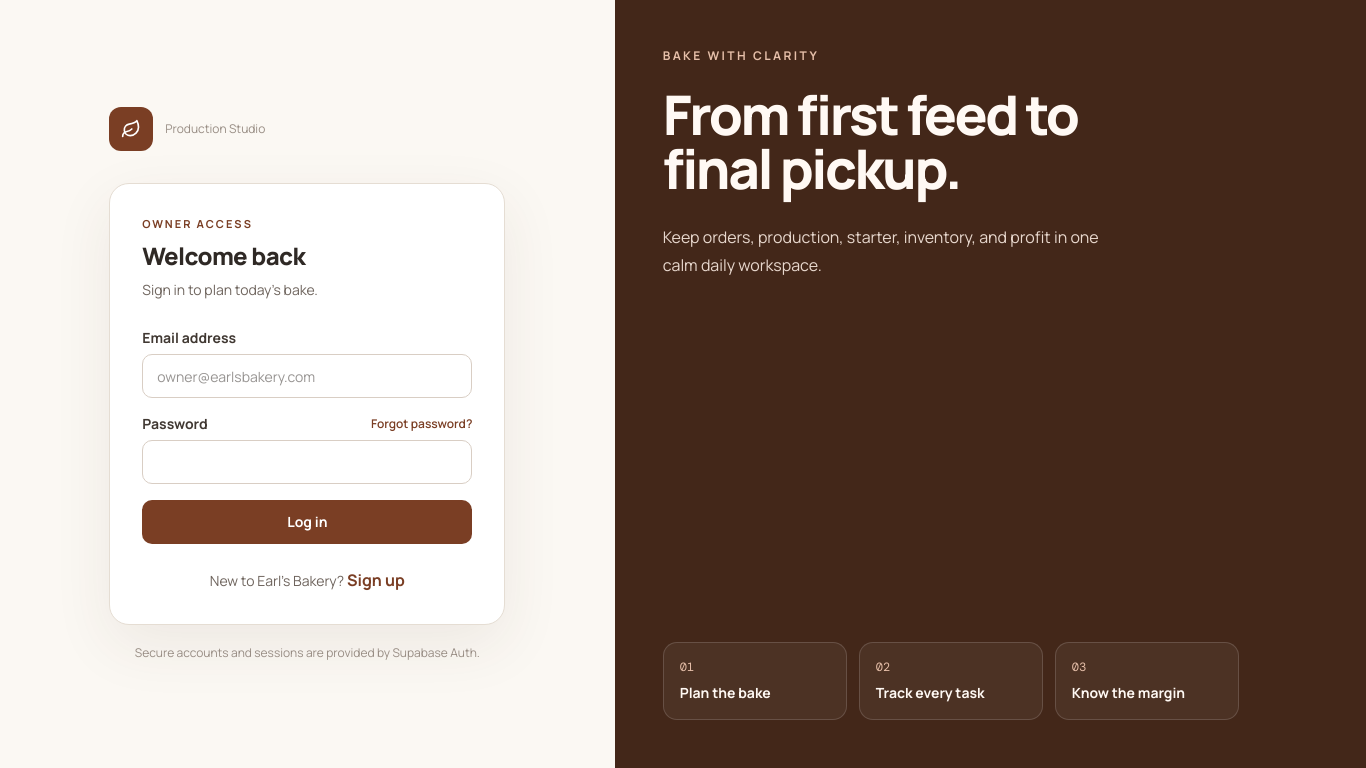
Test: Frontend authentication shell › keeps the workspace hidden and switches between login and signup
This screenshot has width=1366, height=768.
Expected: the heading "Welcome back" is shown, [142, 239, 305, 272]
Click the button "Sign up" at (376, 580), box [347, 568, 405, 592]
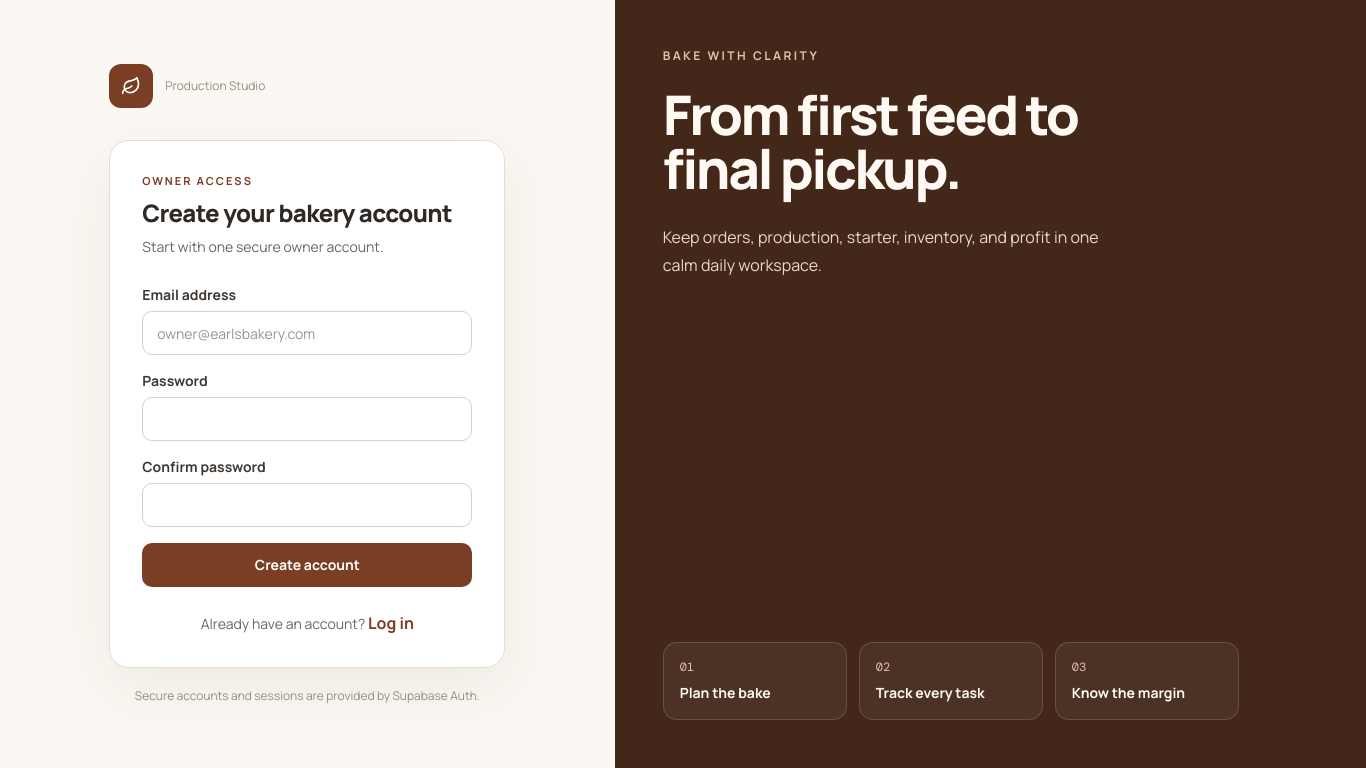
Now the heading "Create your bakery account" is shown, box [142, 197, 472, 229]
Click the button "Create account" at (307, 565), box [142, 543, 472, 587]
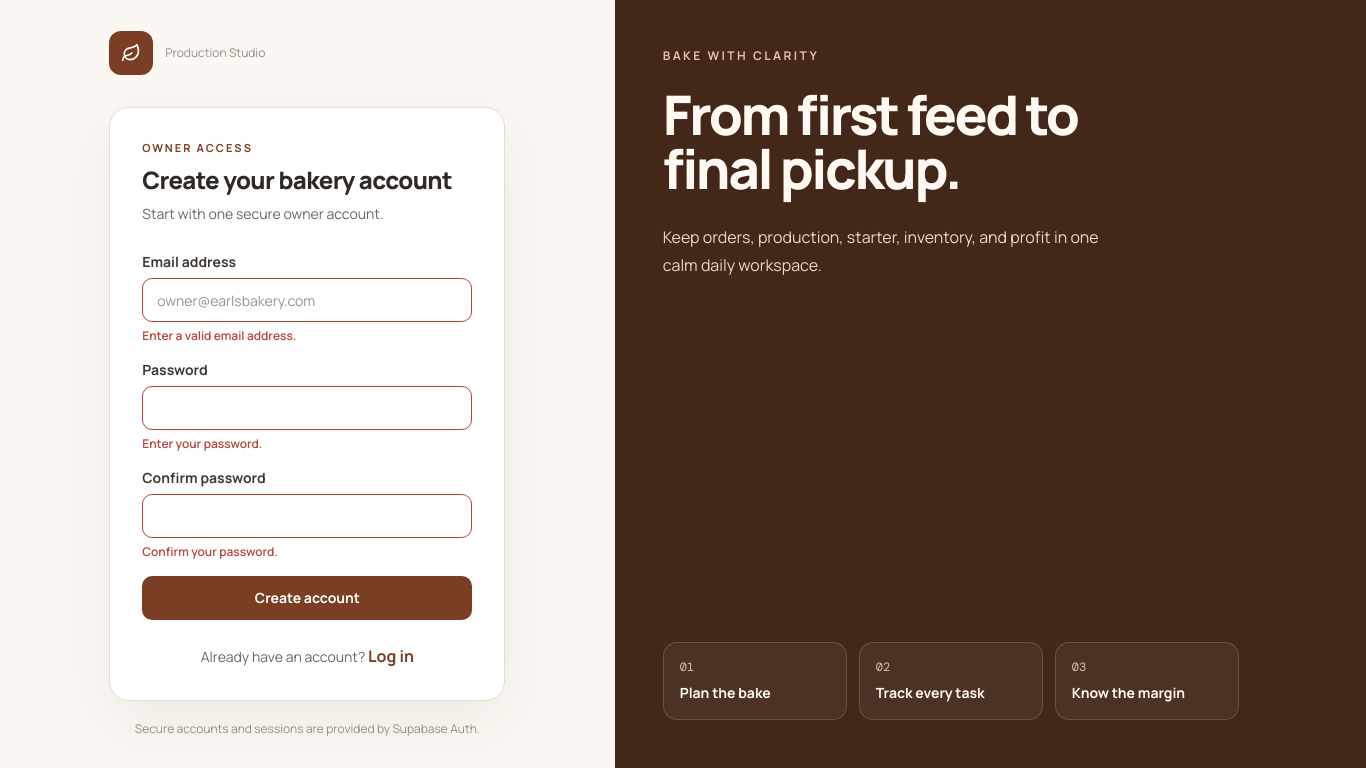
Now the text "Enter a valid email address." is shown, box [142, 327, 296, 344]
Now the text "Enter your password." is shown, box [142, 435, 262, 452]
Now the text "Confirm your password." is shown, box [142, 543, 278, 560]
Type "password" into the password field labelled "Password" at (307, 408), box [142, 386, 472, 430]
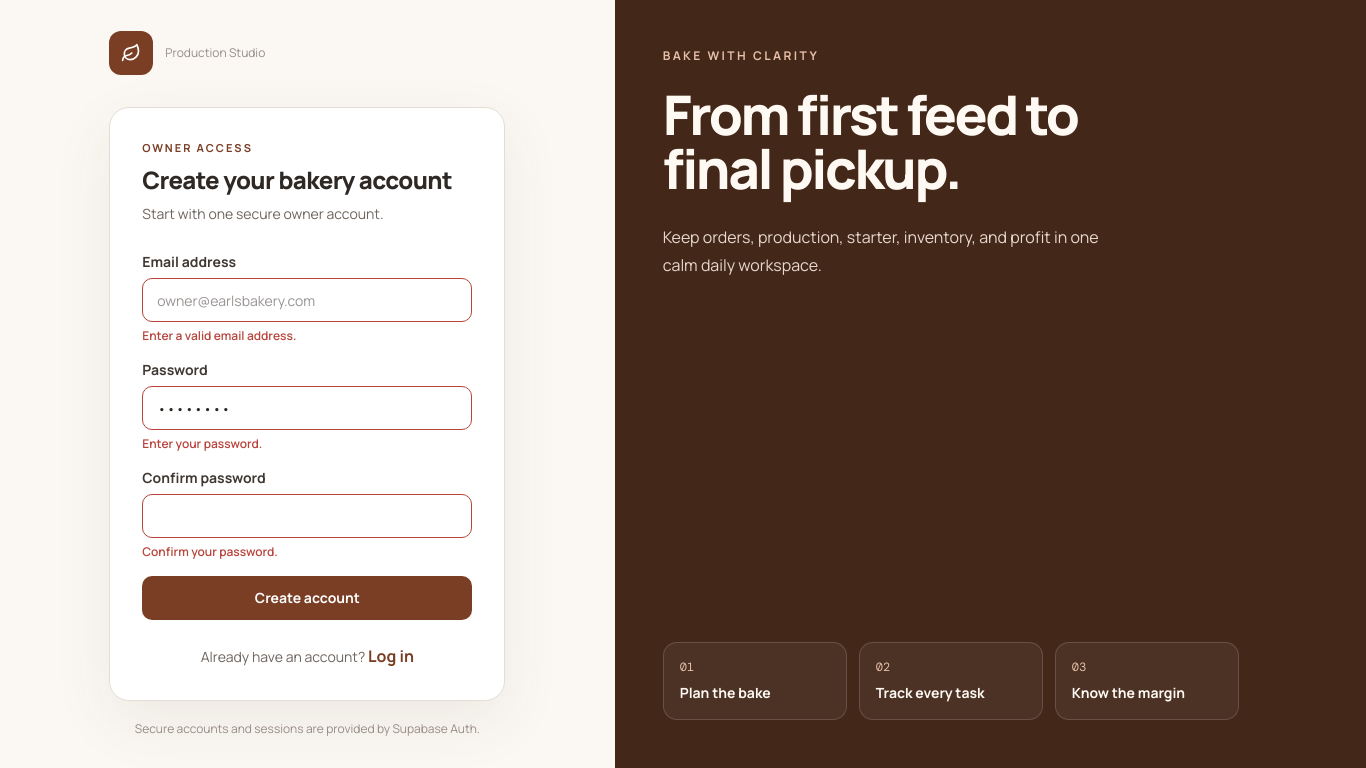
Type "different" into the password field labelled "Confirm password" at (307, 516), box [142, 494, 472, 538]
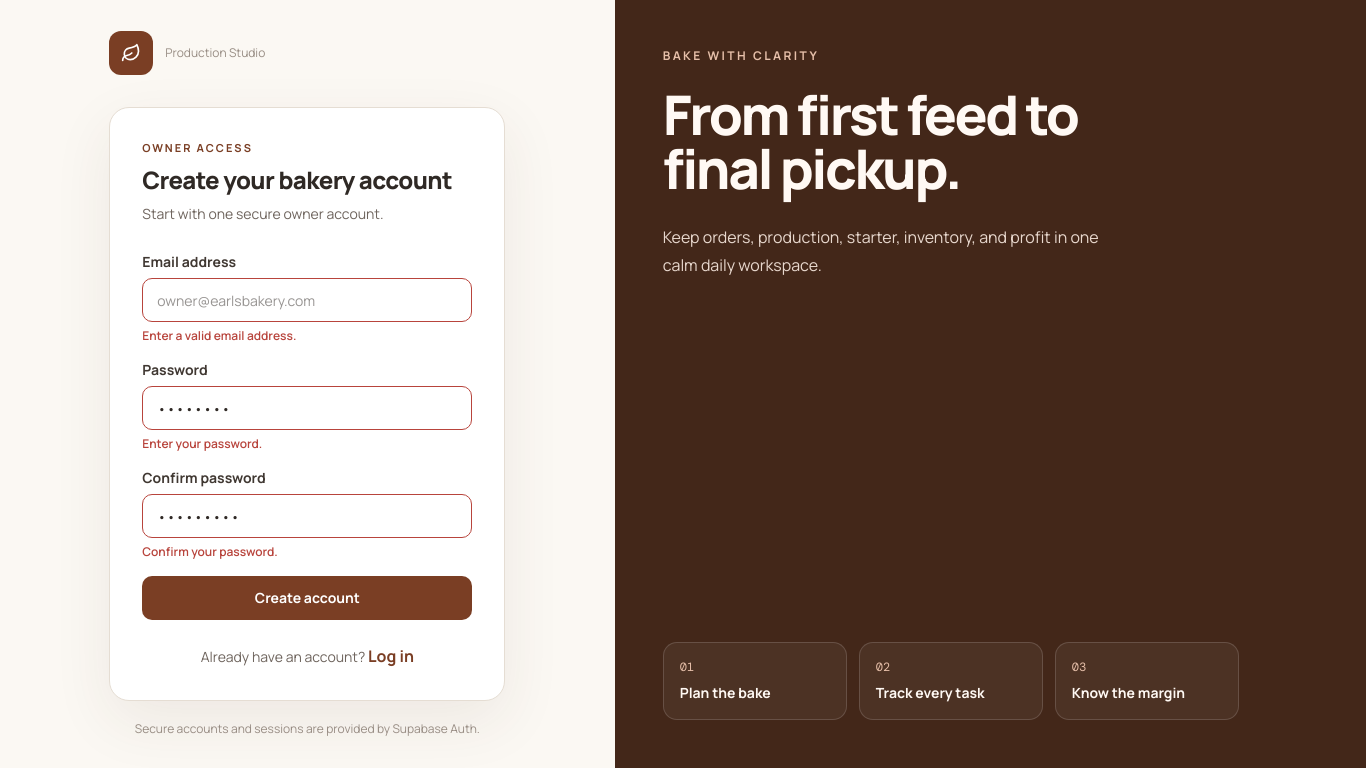
Click the button "Create account" at (307, 598), box [142, 576, 472, 620]
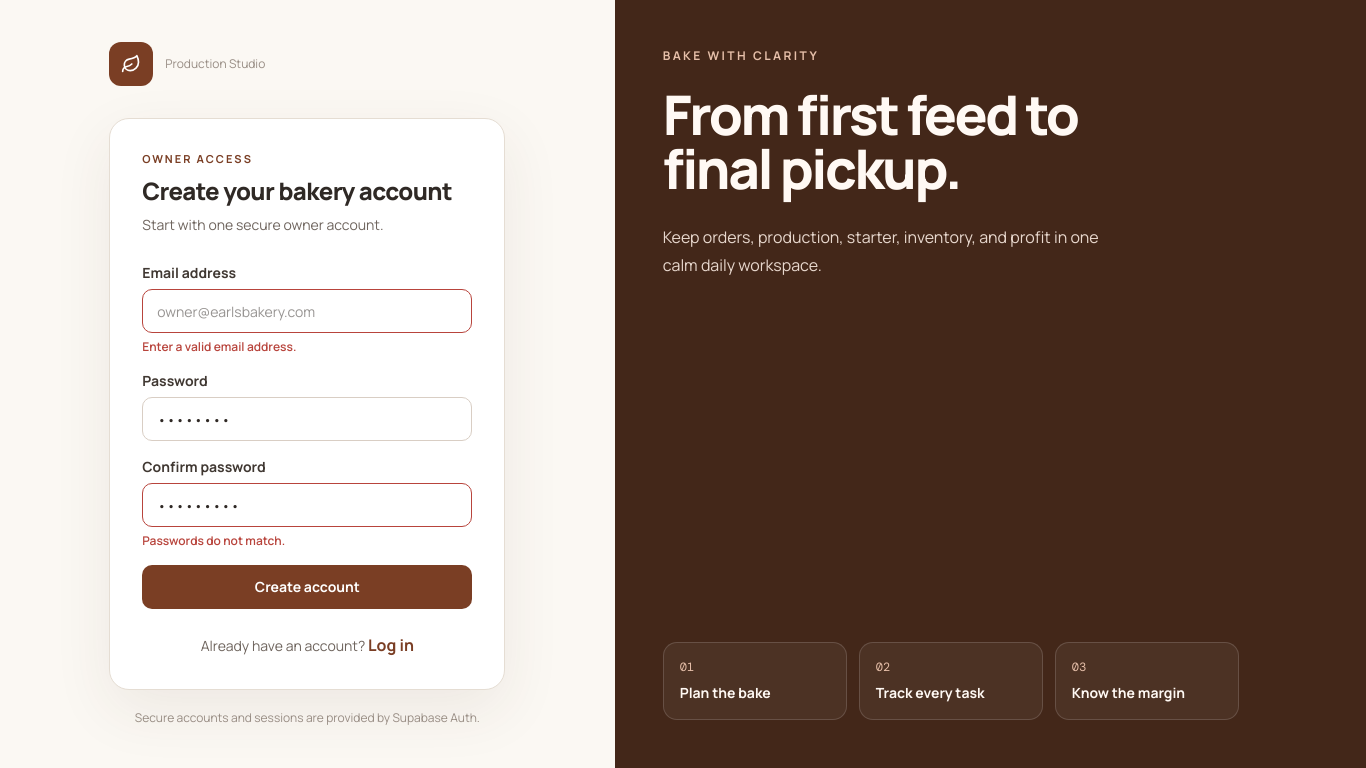
Now the text "Passwords do not match." is shown, box [142, 532, 285, 549]
Click the button "Log in" at (391, 645), box [368, 633, 414, 657]
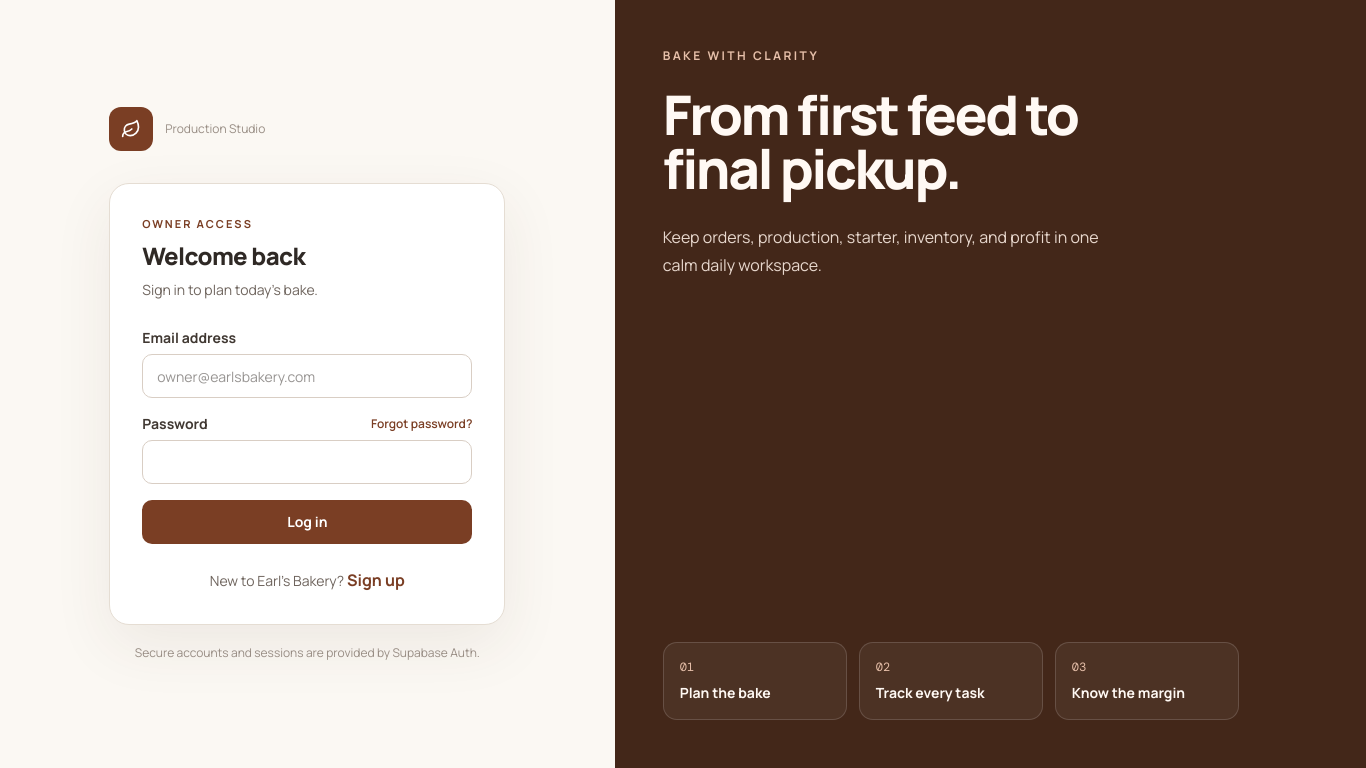
Now the heading "Welcome back" is shown, box [142, 239, 305, 272]
